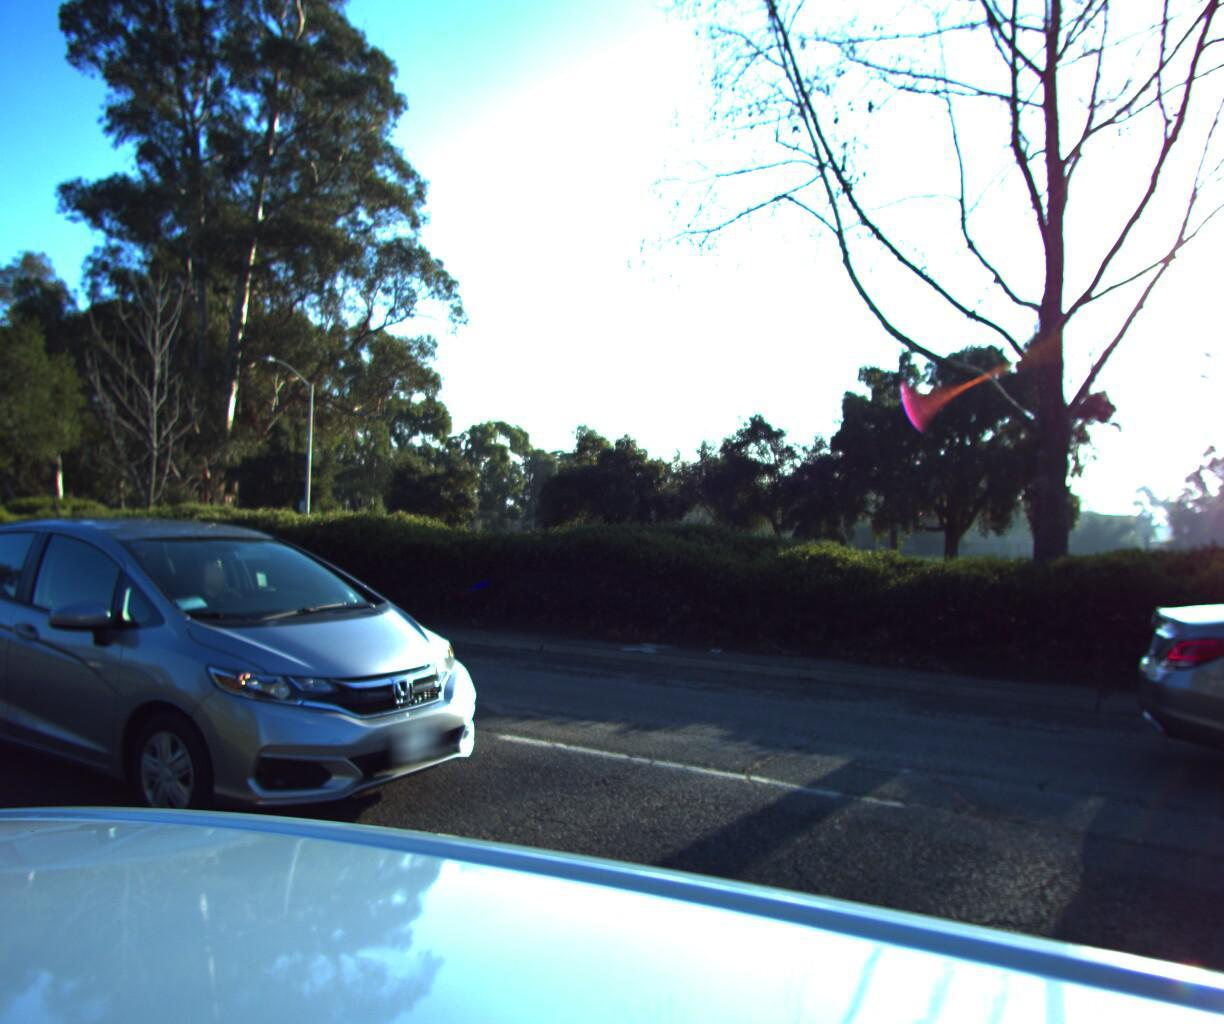car: (0, 507, 528, 885), (1102, 542, 1224, 977)
